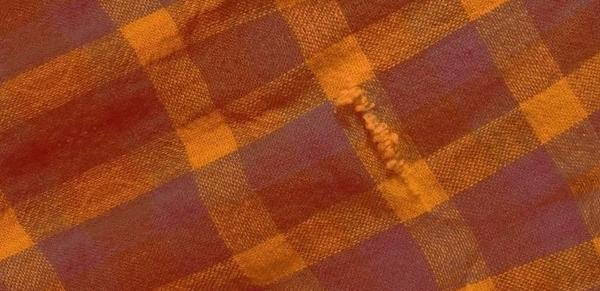knot: (330, 76, 430, 222)
